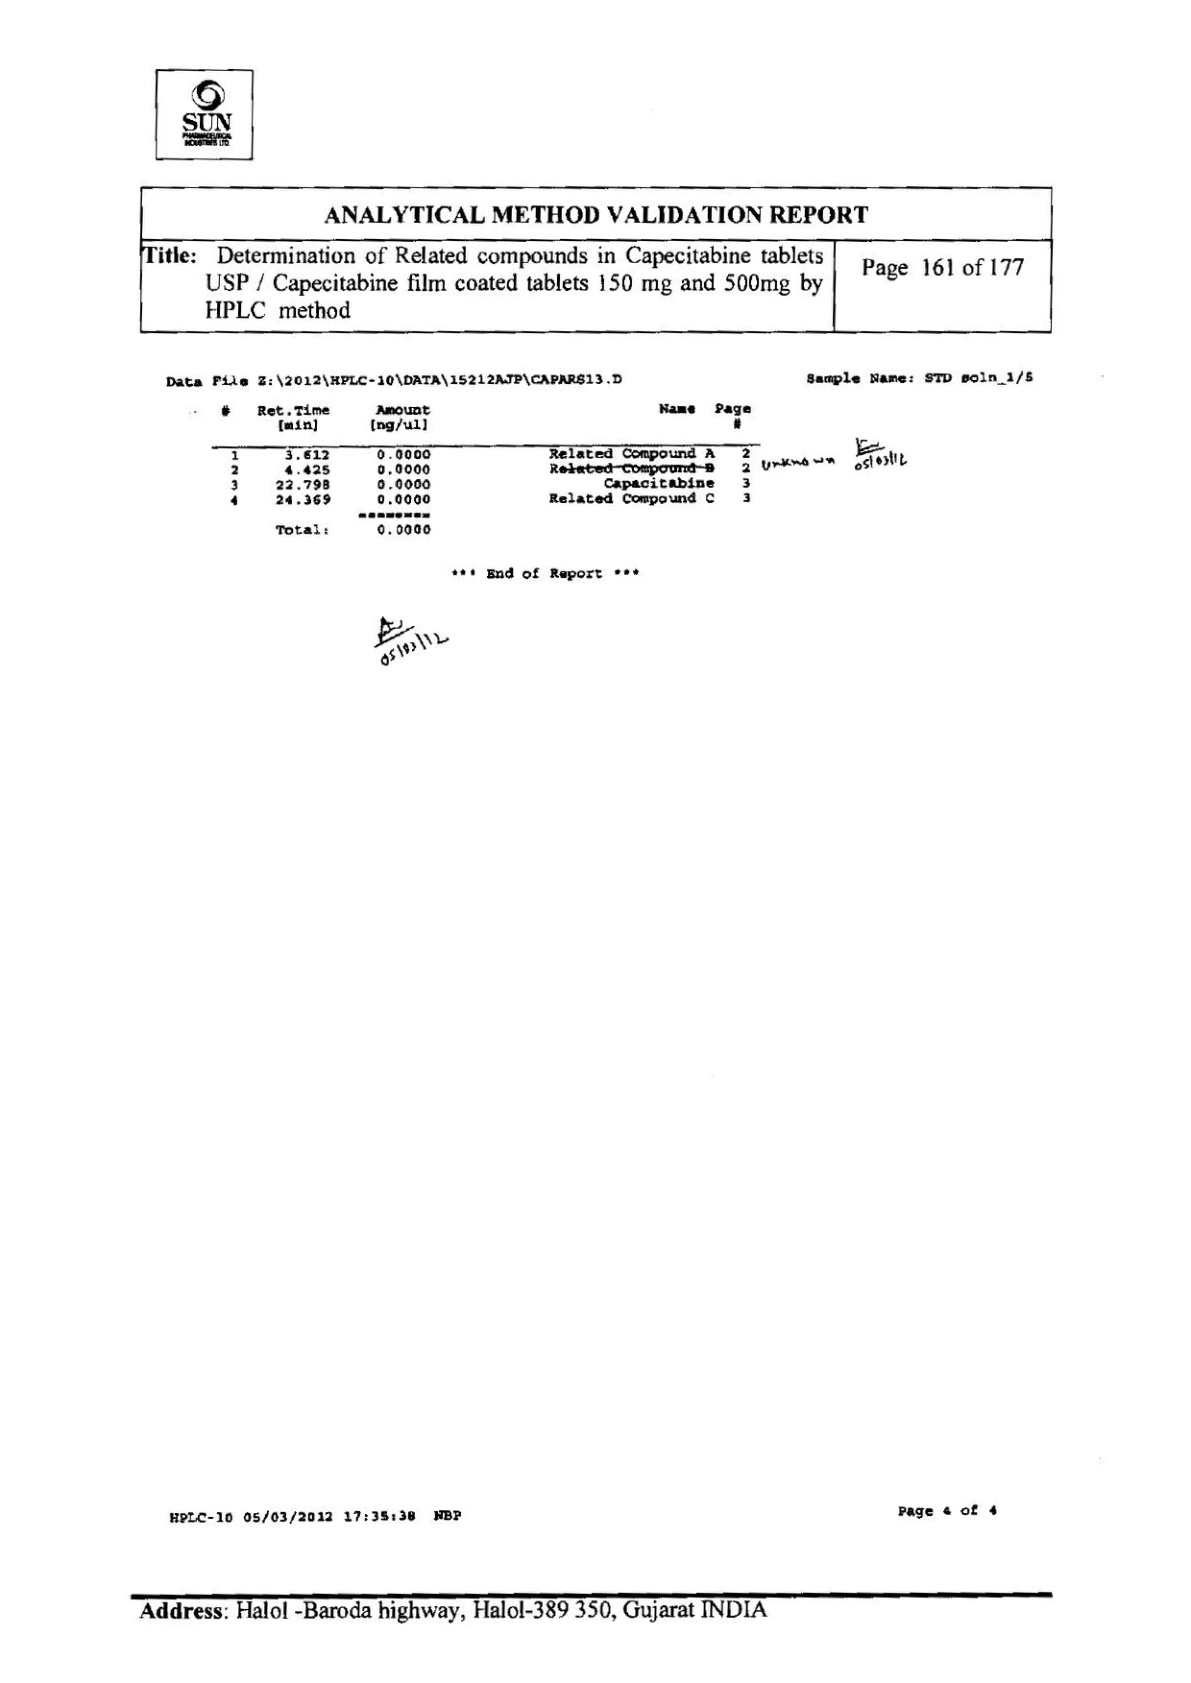partial_lined: (210, 397, 757, 543)
partial_lined_merged_cells: (138, 180, 1056, 336)
